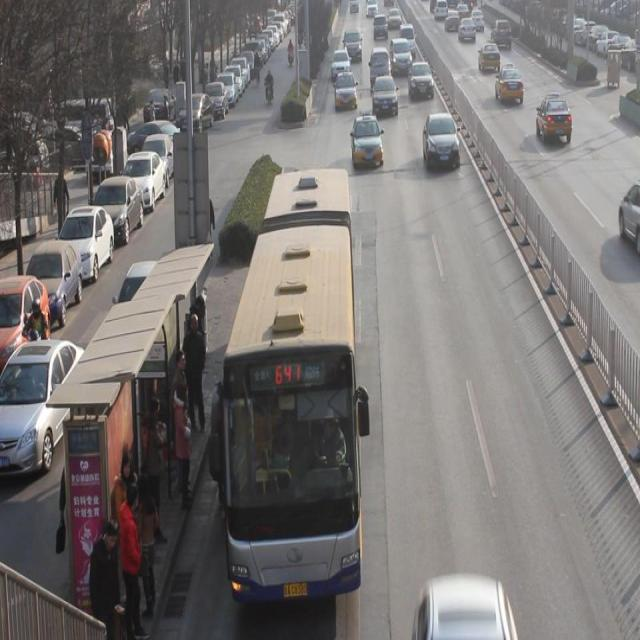car: (422, 111, 460, 172), (535, 91, 572, 146), (350, 112, 384, 170), (495, 63, 524, 105), (372, 74, 399, 116), (407, 60, 434, 101), (333, 71, 358, 112), (389, 36, 412, 72), (490, 19, 513, 50), (478, 42, 501, 71), (344, 29, 363, 62), (332, 49, 352, 77)
truck: (371, 48, 392, 88), (399, 22, 416, 55)
van: (226, 166, 362, 598)
